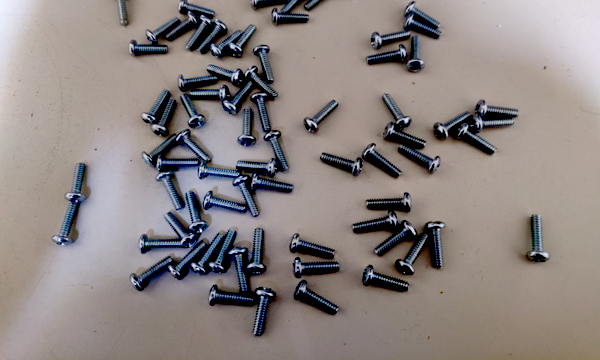shortscrew: (293, 280, 340, 315), (374, 221, 418, 258), (130, 256, 174, 293), (396, 231, 430, 275), (168, 243, 207, 281), (455, 122, 498, 156), (363, 143, 403, 178), (190, 234, 223, 276), (363, 264, 409, 293), (398, 143, 441, 174), (208, 229, 237, 274), (163, 212, 198, 249), (141, 134, 178, 169), (52, 202, 80, 247), (253, 287, 277, 337), (304, 100, 339, 134), (155, 170, 184, 211), (384, 123, 428, 150), (290, 234, 336, 259), (434, 111, 472, 141), (383, 92, 412, 131), (527, 214, 550, 263), (245, 67, 279, 100), (233, 175, 259, 218), (222, 80, 253, 116), (141, 89, 170, 127), (320, 152, 364, 177), (405, 12, 443, 40), (404, 1, 442, 29), (426, 221, 448, 269), (208, 285, 256, 307), (352, 211, 399, 233), (245, 227, 267, 274), (292, 258, 341, 279), (228, 24, 257, 59), (185, 15, 213, 51), (145, 17, 181, 45), (264, 131, 289, 171), (211, 29, 244, 59), (184, 191, 207, 234), (228, 247, 249, 294), (197, 20, 225, 55), (180, 94, 207, 130), (204, 191, 248, 213), (166, 12, 199, 41), (365, 193, 412, 213), (151, 98, 175, 136), (366, 45, 408, 66), (65, 163, 87, 203), (251, 173, 295, 193), (253, 46, 276, 84), (475, 100, 520, 119), (471, 113, 515, 132), (139, 235, 180, 255), (405, 35, 426, 74), (251, 92, 272, 131), (198, 162, 241, 181), (236, 158, 279, 177), (371, 30, 411, 50), (237, 108, 257, 147), (206, 66, 244, 86), (271, 8, 311, 26), (130, 39, 168, 57), (178, 74, 218, 91), (157, 155, 199, 171), (189, 86, 231, 102), (177, 0, 216, 15), (111, 0, 131, 27), (281, 0, 312, 15), (251, 0, 288, 11), (304, 0, 338, 11)
